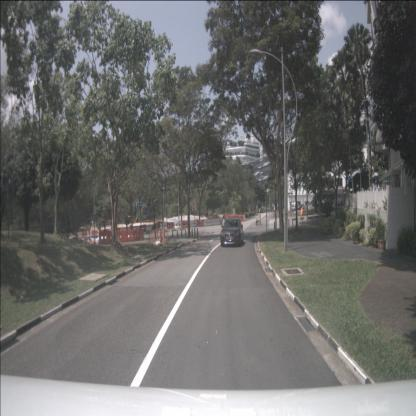human-pedestrian-adult: (222, 215, 226, 240)
movable_object-barrier: (99, 230, 111, 244), (134, 229, 144, 241), (111, 230, 120, 243), (120, 230, 128, 242), (127, 230, 135, 241), (146, 224, 154, 232), (196, 219, 204, 227), (181, 220, 189, 228), (114, 227, 121, 236), (132, 226, 140, 233), (204, 219, 212, 226), (174, 221, 182, 228), (189, 220, 197, 227), (126, 226, 133, 234), (212, 218, 220, 225), (120, 227, 127, 235), (219, 217, 226, 225), (166, 222, 174, 229), (160, 223, 167, 230), (154, 223, 160, 231), (236, 215, 244, 221), (140, 225, 146, 232), (224, 214, 230, 220), (77, 232, 82, 238), (219, 214, 224, 220), (87, 231, 92, 237), (92, 230, 97, 236), (82, 232, 87, 237), (98, 230, 102, 236), (242, 215, 246, 221)
vehicle-car: (220, 218, 244, 247), (297, 204, 305, 211)
